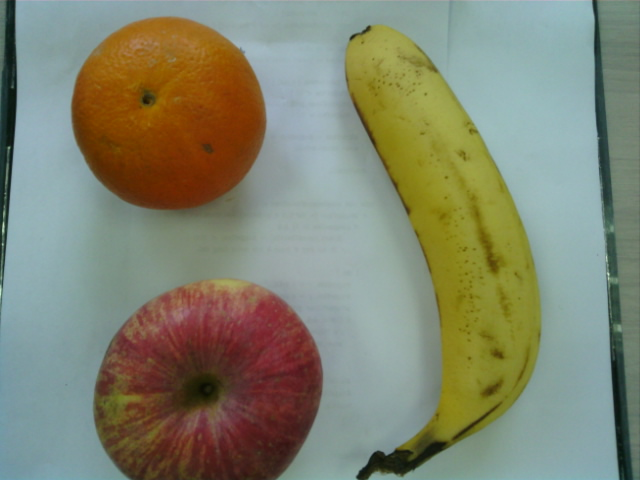normal_apple: (94, 272, 326, 480)
normal_banana: (335, 23, 545, 470)
normal_orange: (68, 16, 267, 210)
